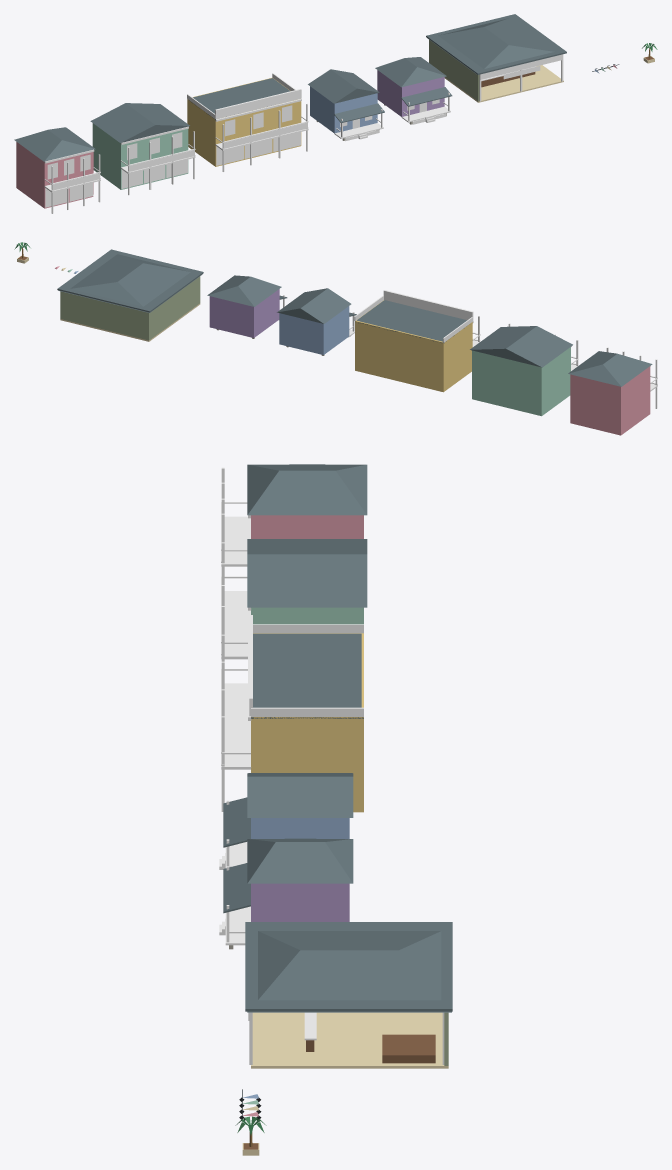
Rendered from duval-kit.glb.
3 renders of one model, top to bottom at view 1: azimuth 30°, elevation 25°; view 2: azimuth 150°, elevation 25°; view 3: azimuth 270°, elevation 25°, orthographic. The views are drawn at different scales.
Parts seen in each view (by area): view 1: duval_corner_bar_body, duval_balcony_c_body, duval_balcony_a_body, duval_balcony_c, duval_balcony_b_body, duval_conch_b_body, duval_balcony_b, duval_conch_a_body, duval_balcony_a, duval_balcony_c_tin_roof, duval_balcony_b_tin_roof_l, duval_conch_a_tin_roof_l (+9 smaller); view 2: duval_corner_bar_body, duval_balcony_c_body, duval_balcony_b_body, duval_balcony_a_body, duval_conch_b_body, duval_conch_a_body, duval_balcony_c_tin_roof, duval_balcony_b_tin_roof_l, duval_conch_a_tin_roof_l, duval_balcony_b_tin_roof_r, duval_conch_a_tin_roof_r, duval_balcony_a_tin_roof_l; view 3: duval_corner_bar_body, duval_balcony_c_body, duval_conch_b_body, duval_balcony_a_body, duval_balcony_c_tin_roof, duval_balcony_b_tin_roof_r, duval_balcony_b_body, duval_conch_a_tin_roof_r, duval_conch_a_body, duval_balcony_b_tin_roof_l, duval_balcony_a_tin_roof_r, duval_conch_b_tin_roof_r.
Part boxes in pixels (x1,y1,x2,y2): duval_corner_bar_body: (426,14,566,102); duval_balcony_c_body: (187,73,308,171); duval_balcony_a_body: (14,127,100,213); duval_balcony_c: (215,101,301,165); duval_balcony_b_body: (90,103,195,195); duval_conch_b_body: (375,57,452,124); duval_balcony_b: (121,129,188,188); duval_conch_a_body: (308,69,384,140); duval_balcony_a: (44,152,93,207); duval_balcony_c_tin_roof: (193,78,290,113); duval_balcony_b_tin_roof_l: (91,103,154,142); duval_conch_a_tin_roof_l: (308,69,356,102); duval_corner_bar_body: (57,249,203,341); duval_balcony_c_body: (354,290,480,392); duval_balcony_b_body: (470,323,578,416); duval_balcony_a_body: (568,347,657,435); duval_conch_b_body: (207,275,287,338); duval_conch_a_body: (277,288,356,355); duval_balcony_c_tin_roof: (357,300,466,341); duval_balcony_b_tin_roof_l: (507,326,572,366); duval_conch_a_tin_roof_l: (301,288,350,323); duval_balcony_b_tin_roof_r: (470,326,535,349); duval_conch_a_tin_roof_r: (278,288,326,311); duval_balcony_a_tin_roof_l: (606,355,641,378); duval_corner_bar_body: (245,922,452,1068); duval_balcony_c_body: (221,615,363,812); duval_conch_b_body: (219,839,353,949); duval_balcony_a_body: (221,464,367,566); duval_balcony_c_tin_roof: (253,633,361,707); duval_balcony_b_tin_roof_r: (248,554,366,606); duval_balcony_b_body: (221,539,367,659); duval_conch_a_tin_roof_r: (248,776,352,817); duval_conch_a_body: (219,773,353,869); duval_balcony_b_tin_roof_l: (248,539,366,553); duval_balcony_a_tin_roof_r: (289,470,325,514); duval_conch_b_tin_roof_r: (284,842,316,882).
Size of the model in its own units: 101 by 9.01 by 16.55.
